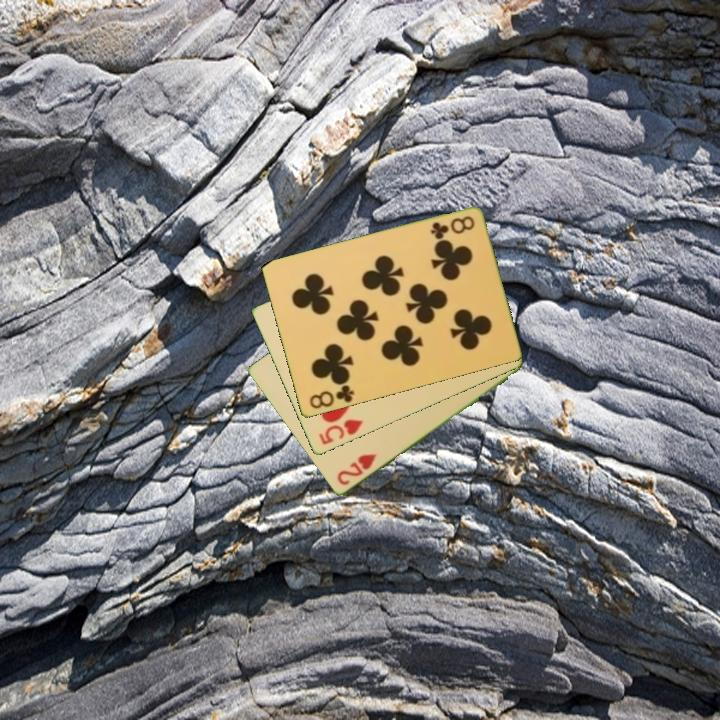2h: (333, 450, 379, 489)
5h: (315, 416, 366, 448)
8c: (306, 382, 357, 412), (427, 213, 477, 242)
